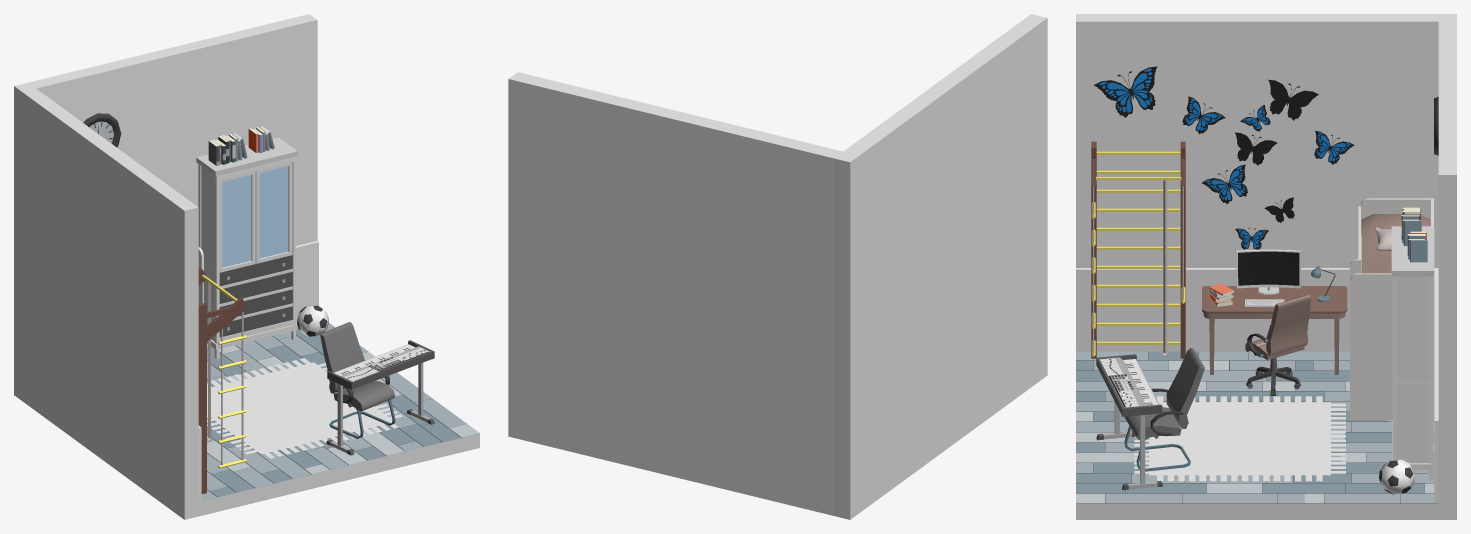
Rendered from room_26.glb.
The picture shows the model from 3 angles, left to right: view 1: azimuth 30°, elevation 25°; view 2: azimuth 150°, elevation 25°; view 3: azimuth 270°, elevation 25°; orthographic projection. The views are drawn at different scales.
Parts seen in each view (by area): view 1: Walls_006.047, Walls_006.046, closet_014.001, floor_010.004, carpet_008.003, Walls_011.013, training_item_018.001, office_chair_006.001, musical_instrument_004.001, Walls_003.057, prop_001.010, toy_003.002 (+2 smaller); view 2: Walls_006.046, Walls_006.047; view 3: Walls_006.047, floor_010.004, carpet_008.003, Walls_003.058, bed_021.001, closet_014.001, Walls_006.046, Walls_011.013, training_item_018.001, office_table_010.001, musical_instrument_004.001, office_chair_006.001 (+13 smaller).
Part boxes in pixels (x1,y1,x2,y2): Walls_006.047: [14, 82, 198, 519]; Walls_006.046: [28, 14, 317, 245]; closet_014.001: [196, 137, 297, 358]; floor_010.004: [201, 321, 479, 500]; carpet_008.003: [207, 358, 402, 458]; Walls_011.013: [198, 327, 479, 516]; training_item_018.001: [198, 268, 247, 493]; office_chair_006.001: [320, 322, 395, 438]; musical_instrument_004.001: [326, 340, 434, 455]; Walls_003.057: [296, 241, 318, 321]; prop_001.010: [208, 132, 247, 165]; toy_003.002: [297, 305, 328, 336]; Walls_006.046: [508, 72, 842, 515]; Walls_006.047: [834, 14, 1047, 519]; Walls_006.047: [1076, 14, 1456, 267]; floor_010.004: [1076, 351, 1438, 503]; carpet_008.003: [1134, 396, 1345, 481]; Walls_003.058: [1076, 268, 1438, 351]; bed_021.001: [1350, 198, 1434, 419]; closet_014.001: [1391, 226, 1434, 480]; Walls_006.046: [1438, 21, 1456, 519]; Walls_011.013: [1076, 352, 1438, 519]; training_item_018.001: [1091, 141, 1185, 358]; office_table_010.001: [1202, 286, 1347, 374]; musical_instrument_004.001: [1096, 354, 1163, 490]; office_chair_006.001: [1124, 348, 1204, 471].
Size of the model in its own units: 4.2 by 4.2 by 4.2.
1 material, 1 textured.
